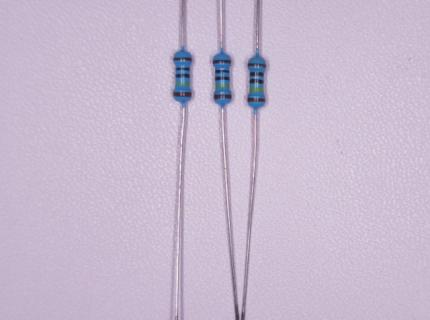Black band: (215, 76, 230, 81), (215, 69, 230, 74), (249, 79, 264, 84), (176, 73, 189, 78), (250, 72, 263, 77), (175, 67, 190, 71)
Brown band: (173, 91, 191, 97), (214, 94, 232, 100), (248, 97, 266, 102), (248, 63, 266, 68), (173, 57, 192, 61), (213, 60, 231, 64)
Yellow band: (216, 84, 229, 89), (175, 82, 190, 86), (250, 87, 264, 91)
